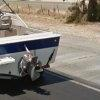Boat: (4, 12, 75, 94)
